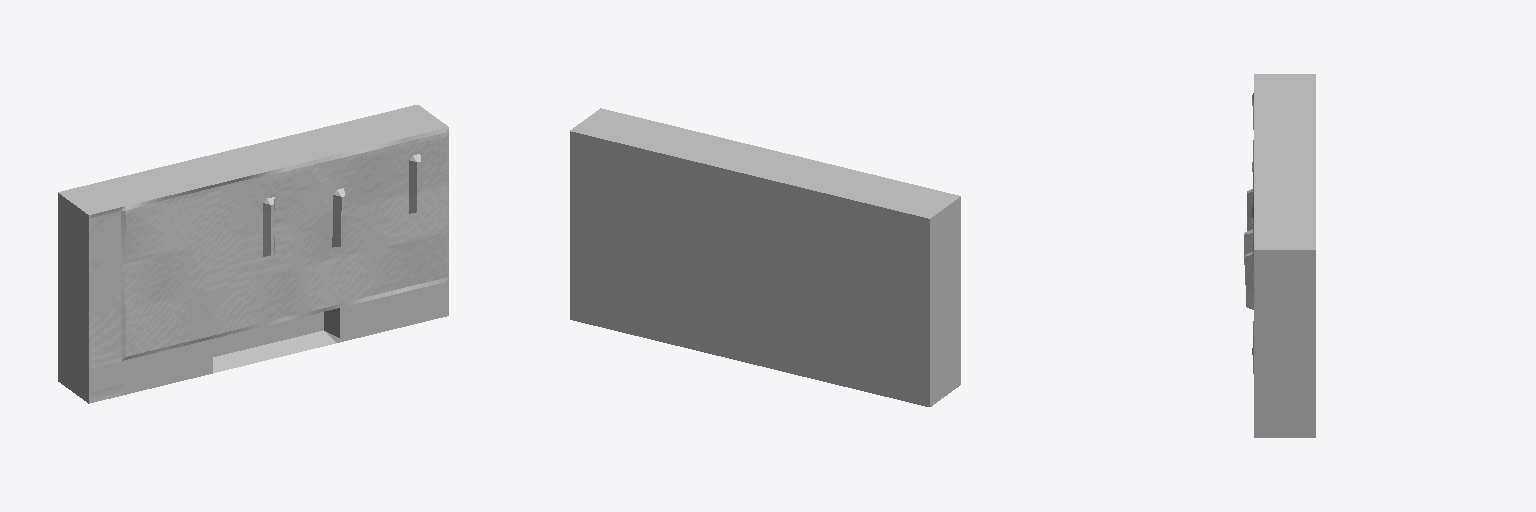
Rendered from rectangular_prism_bumps_4_2.obj.
3 views of the same model, side by side, from view 1: azimuth 30°, elevation 25°; view 2: azimuth 150°, elevation 25°; view 3: azimuth 270°, elevation 25° (orthographic).
Bounding box in the file's own units: 10 × 5 × 1.75.